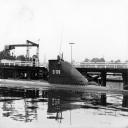submarine: (1, 61, 128, 94)
